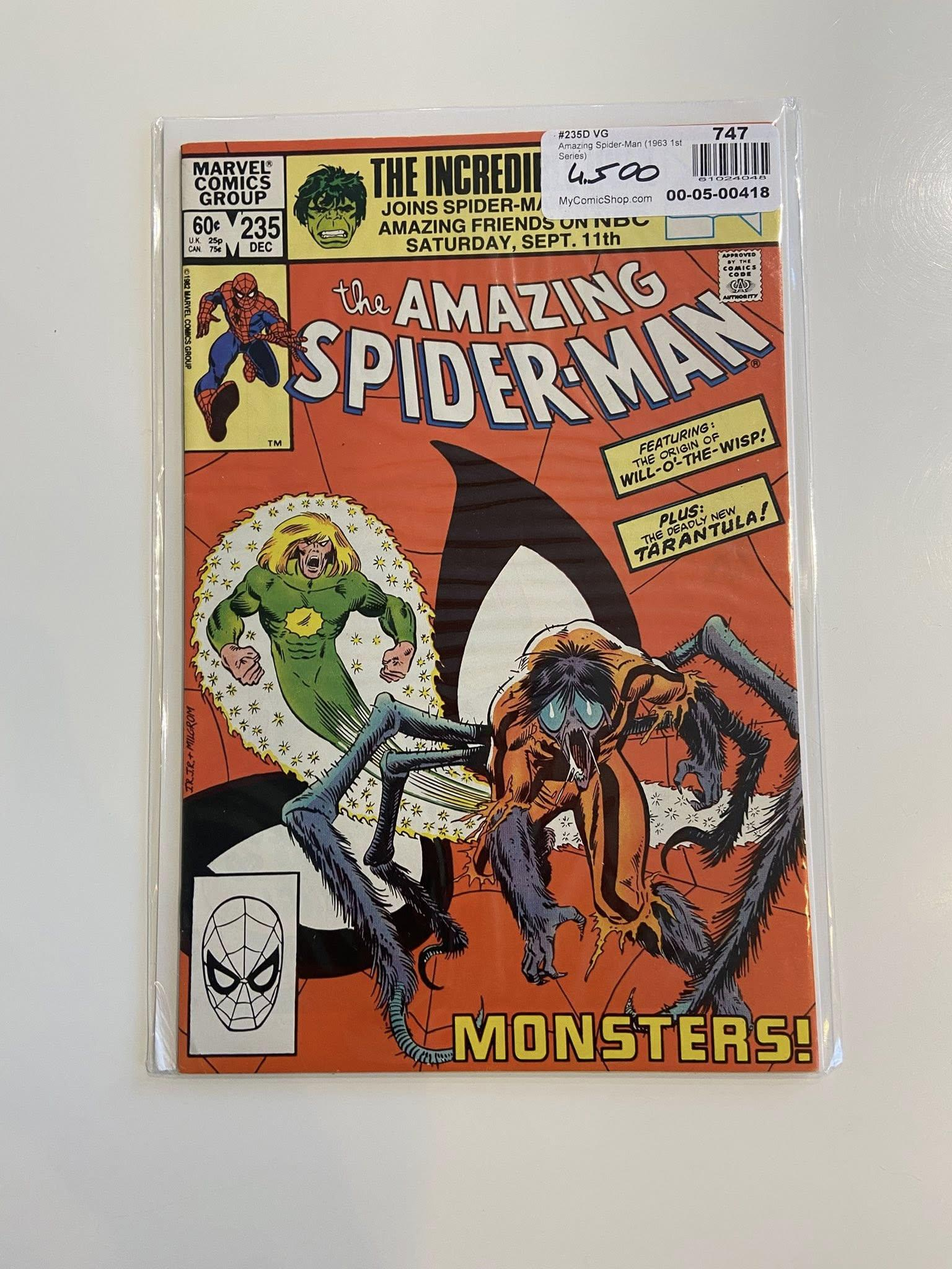comic: (174, 118, 819, 1071)
